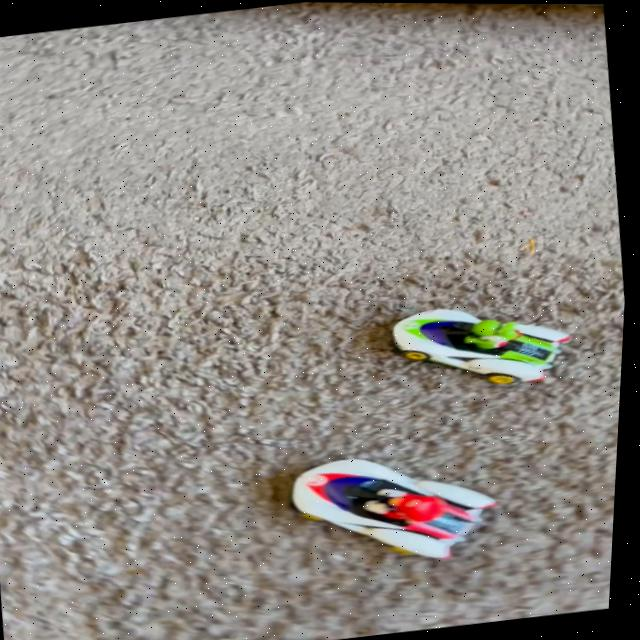mario: (265, 418, 540, 597)
yoshi: (364, 263, 604, 423)
